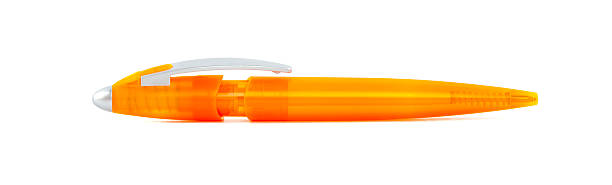pen: (85, 48, 549, 145)
